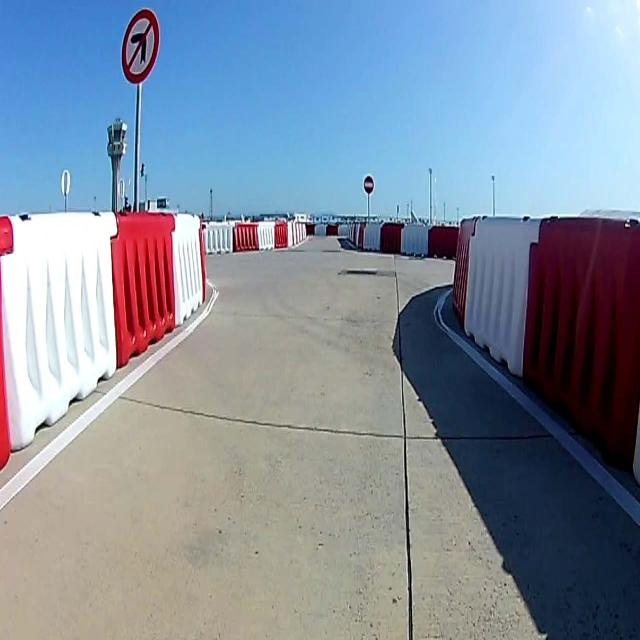girisyok: (362, 173, 376, 194)
soladonulmez: (122, 9, 160, 83)
